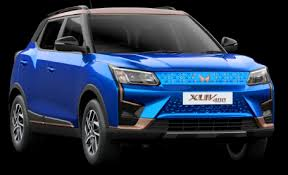XUV 400: (7, 5, 277, 166)
